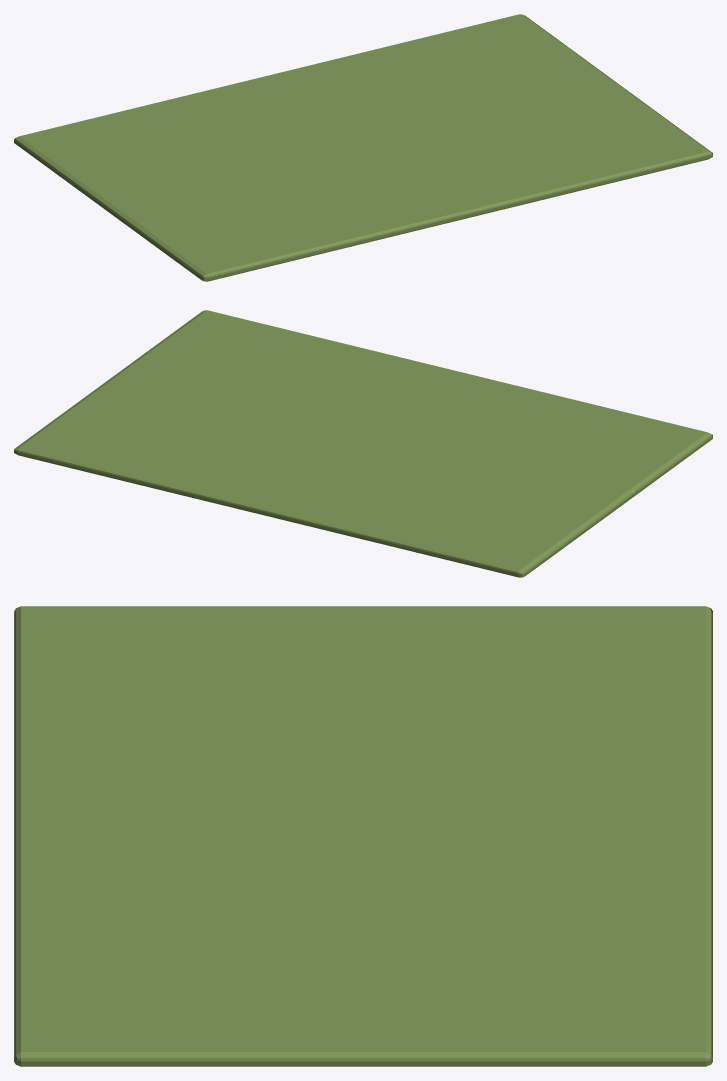
File: carpet_singlebedroom.fbx
3 renders of one model, top to bottom at view 1: azimuth 30°, elevation 25°; view 2: azimuth 150°, elevation 25°; view 3: azimuth 270°, elevation 25°, orthographic. The views are drawn at different scales.
Parts seen in each view (by area): view 1: carpet_singlebedroom; view 2: carpet_singlebedroom; view 3: carpet_singlebedroom.
Part boxes in pixels (bbox=[...]): carpet_singlebedroom: bbox=[14, 14, 712, 281]; carpet_singlebedroom: bbox=[14, 310, 712, 577]; carpet_singlebedroom: bbox=[14, 606, 712, 1066].
Bounding box in the file's own units: 216 × 3.2 × 140.
